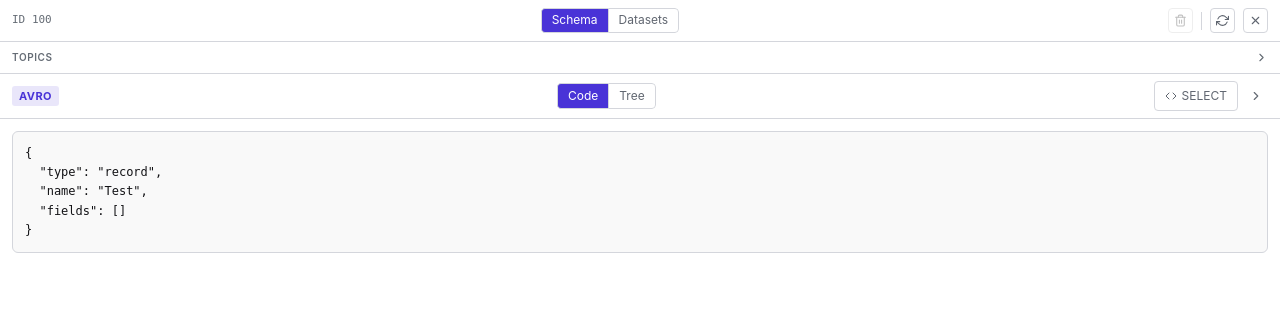
Test: [@schema-detail-layout] Schema/Datasets toggle and header layout › Schema/Datasets top-level toggle › defaults to Schema mode — shows VERSION and COMPAT
This screenshot has width=1280, height=315.
Schema controls are in a collapsible panel — expand it first
Click the button named "Toggle schema controls": (1256, 96) left=1244, top=84, right=1268, bottom=108
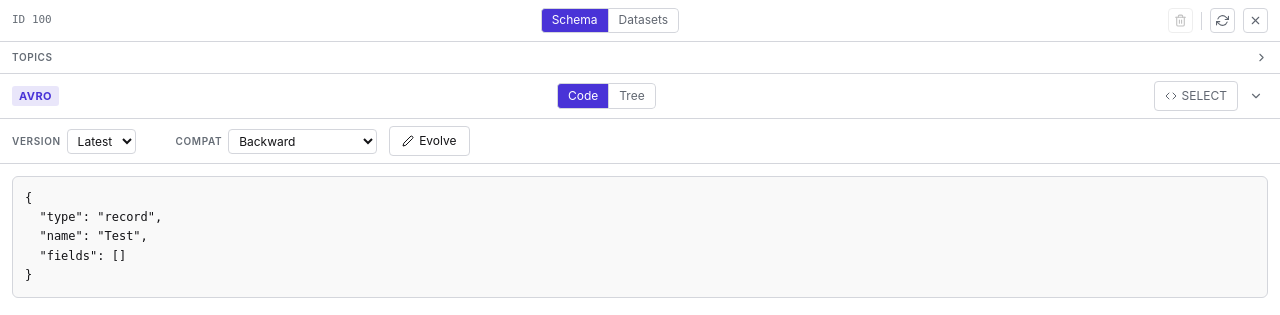
expect the text "Version" is shown: met, box left=12, top=134, right=61, bottom=148
expect the text "Compat" is shown: met, box left=176, top=134, right=222, bottom=148
